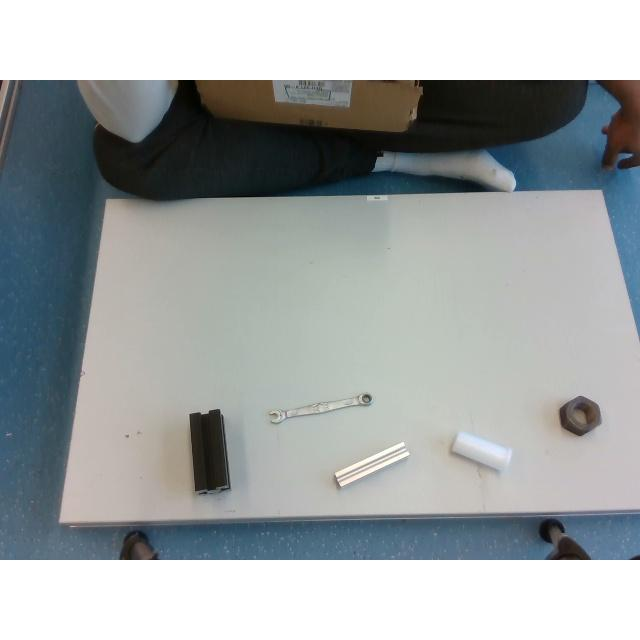F20_20_G: (334, 442, 410, 486)
M30: (559, 396, 601, 436)
S40_40_B: (190, 409, 230, 493)
Spacer: (451, 431, 511, 469)
Wrench: (266, 393, 372, 423)
